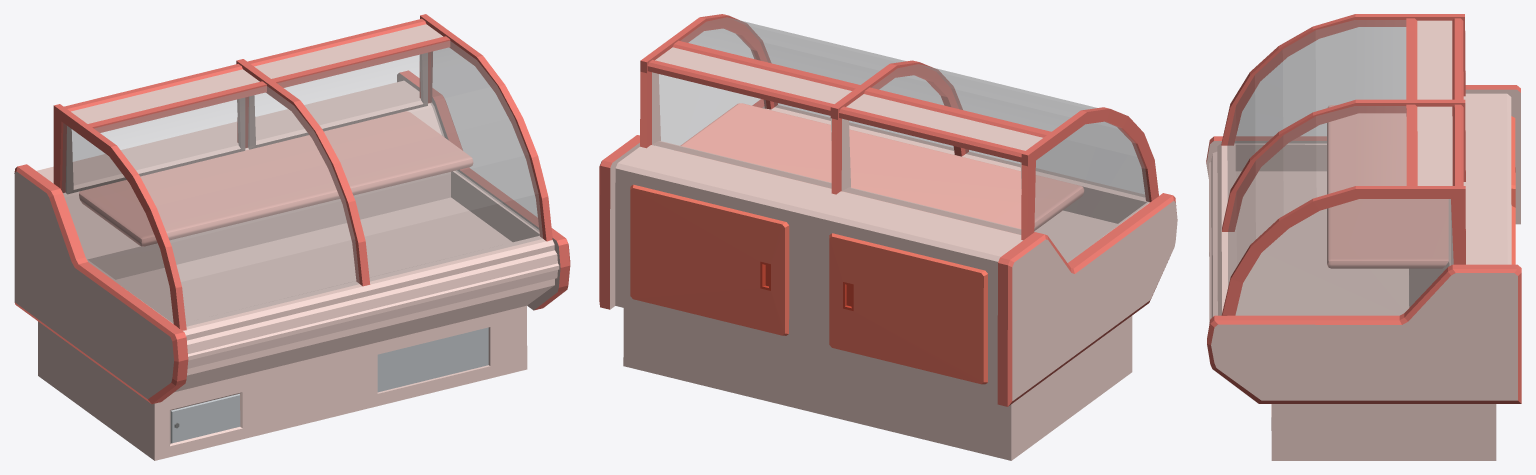
The model's file is donut-stand.fbx.
3 views of the same model, side by side, from view 1: azimuth 30°, elevation 25°; view 2: azimuth 150°, elevation 25°; view 3: azimuth 270°, elevation 25° (orthographic). The views are drawn at different scales.
Visible parts, largest first — view 1: SM_Prop_Market_Deli_Fridge_02, pCube72; view 2: SM_Prop_Market_Deli_Fridge_02, pCube72; view 3: SM_Prop_Market_Deli_Fridge_02, pCube72.
Part boxes in pixels (left/top/right/bottom): SM_Prop_Market_Deli_Fridge_02: left=14, top=14, right=570, bottom=460; pCube72: left=79, top=111, right=473, bottom=246; SM_Prop_Market_Deli_Fridge_02: left=599, top=14, right=1177, bottom=460; pCube72: left=674, top=103, right=1084, bottom=233; SM_Prop_Market_Deli_Fridge_02: left=1206, top=14, right=1521, bottom=460; pCube72: left=1327, top=105, right=1448, bottom=268.
Bounding box in the file's own units: 787 × 535 × 561.
Materials: 2 (1 with a texture image).
